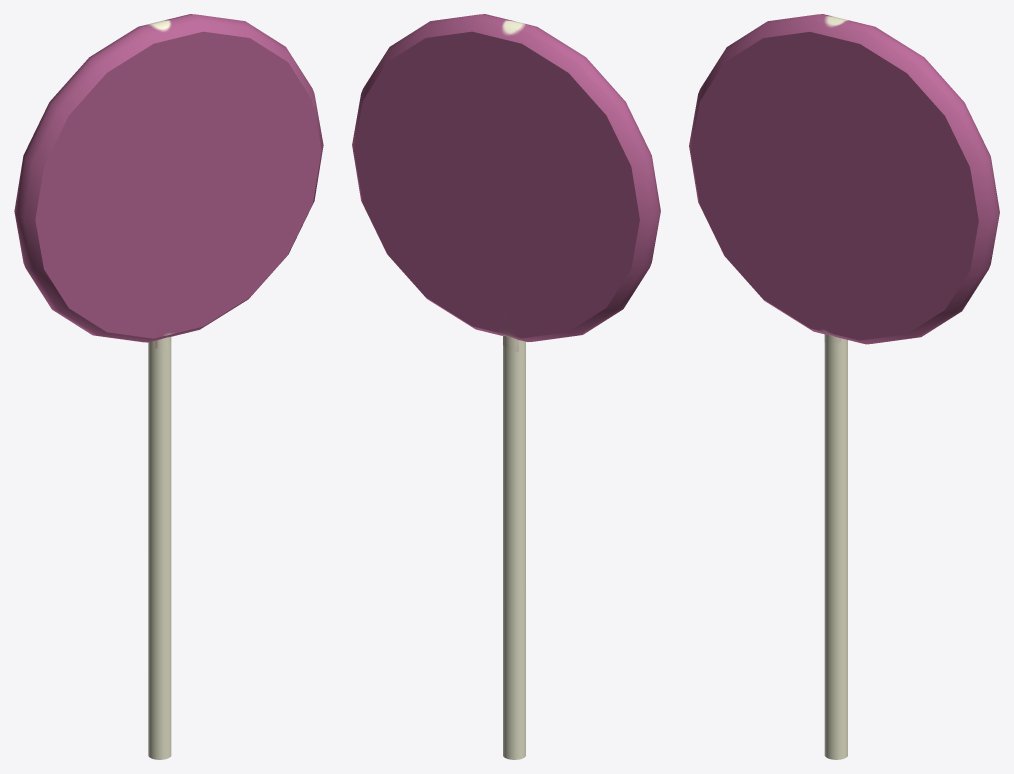
Rendered from lolly pop.FBX.
3 renders of one model, left to right at view 1: azimuth 30°, elevation 25°; view 2: azimuth 150°, elevation 25°; view 3: azimuth 330°, elevation 25°, orthographic.
Visible parts, largest first — view 1: Cylinder001; view 2: Cylinder001; view 3: Cylinder001.
Part boxes in pixels (x1,y1,x2,y2): Cylinder001: (14, 14, 323, 759); Cylinder001: (352, 14, 660, 759); Cylinder001: (689, 14, 999, 759).
Bounding box in the file's own units: 137 × 313 × 14.66.
